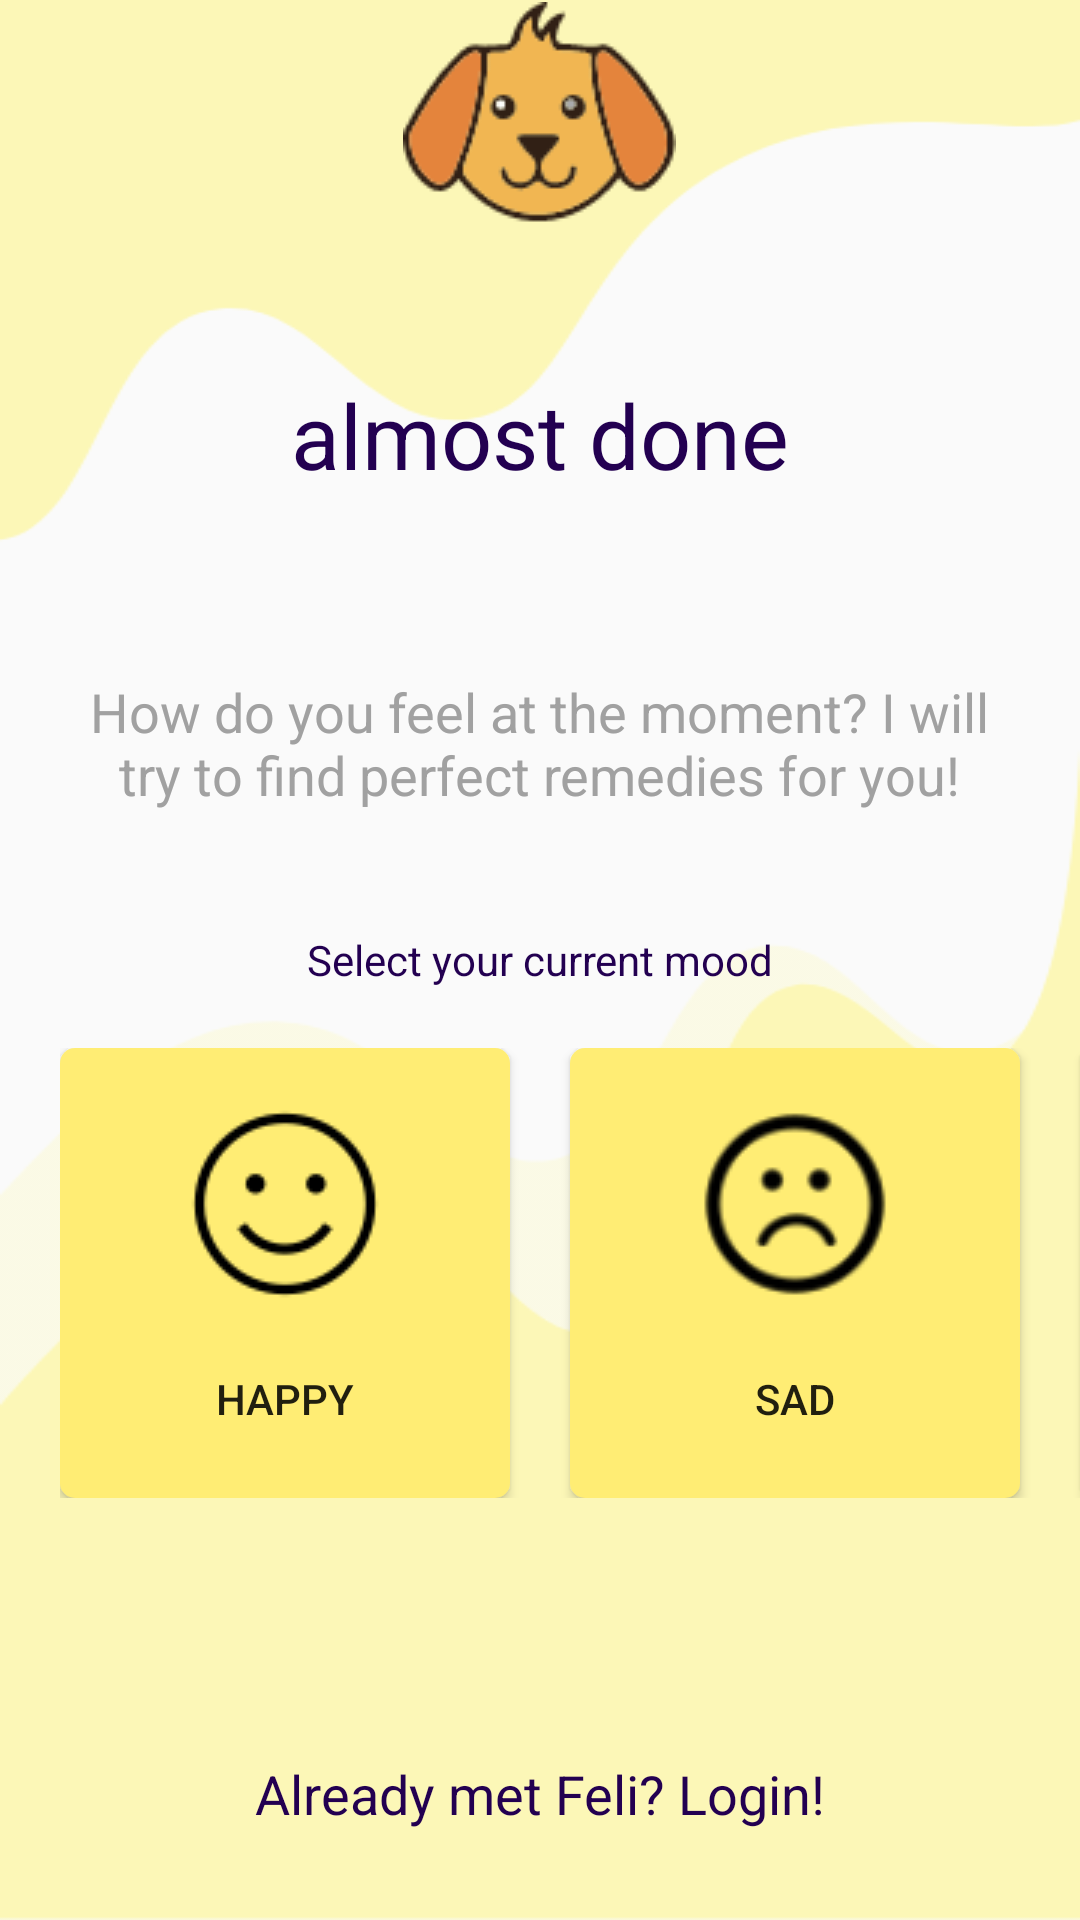

Point at icon controls on the screen. Image size 1080x1920, points as (x=x, y=y).
feli dog: (x=539, y=112)
